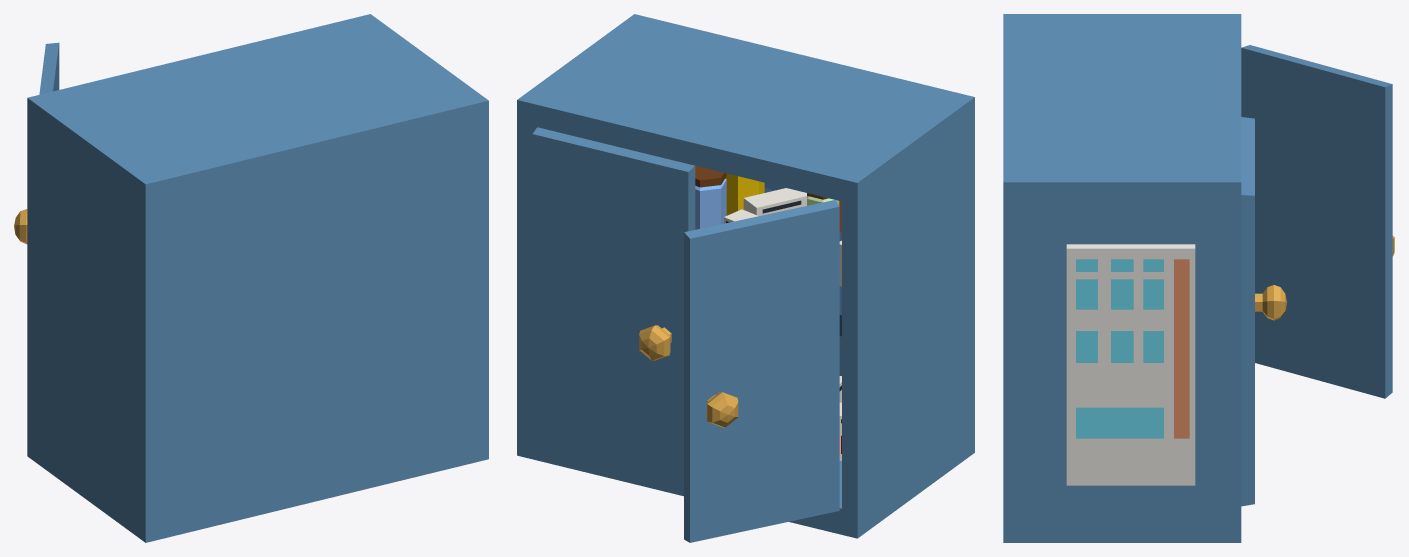
File: g_o_MedicineCabinet.fbx
The picture shows the model from 3 angles, left to right: view 1: azimuth 30°, elevation 25°; view 2: azimuth 150°, elevation 25°; view 3: azimuth 270°, elevation 25°; orthographic projection.
Visible parts, largest first — view 1: MedicineCabinet; view 2: MedicineCabinet; view 3: MedicineCabinet.
Part boxes in pixels (box(x1,y1,x2,y2)): MedicineCabinet: box(14, 14, 488, 542); MedicineCabinet: box(517, 14, 974, 542); MedicineCabinet: box(1003, 14, 1394, 542).
Bounding box in the file's own units: 76.13 × 74.08 × 72.83.
